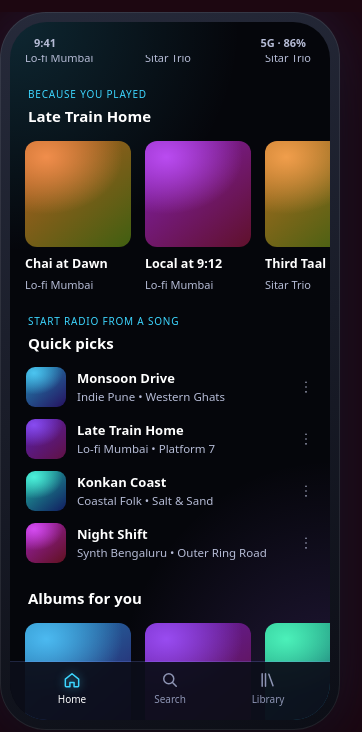
Swar demo › plays a quick pick and shows it in the mini player
(page scrolled)
Click the button with aria-label "Play Monsoon Drive by Indie Pune" at {"x": 149, "y": 387}, box [10,361,288,413]
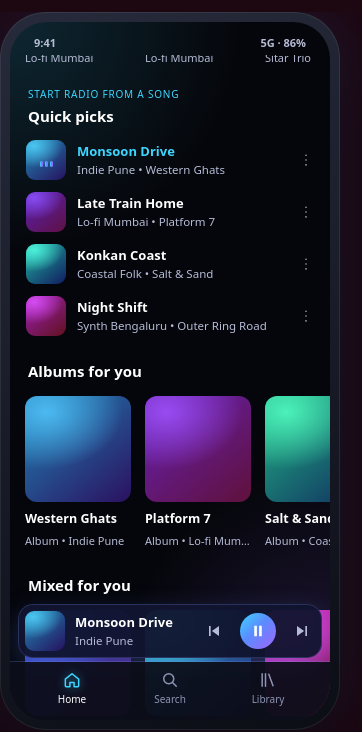
Now the button named "Pause" is shown, box [240,613,276,649]
